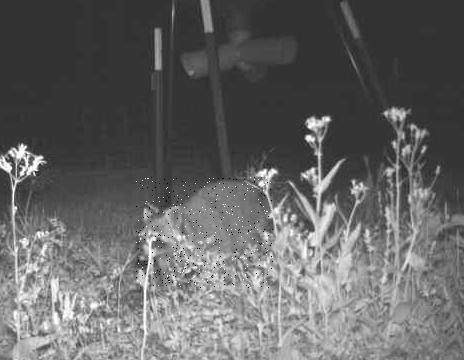Raccoon: (136, 178, 273, 289)
